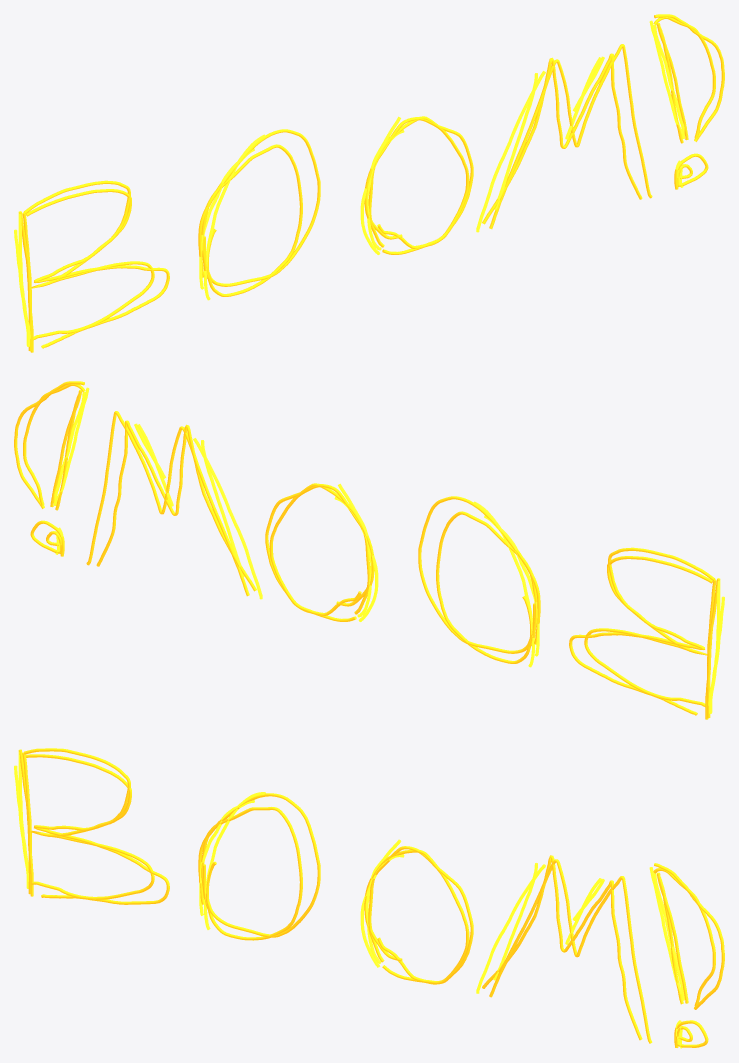
The model's file is boom-godot.glb.
3 renders of one model, top to bottom at view 1: azimuth 30°, elevation 25°; view 2: azimuth 150°, elevation 25°; view 3: azimuth 330°, elevation 25°, orthographic.
Visible parts, largest first — view 1: BoomText; view 2: BoomText; view 3: BoomText.
Boxes of the visible parts, x1,y1,x2,y2 form: BoomText: (14, 14, 724, 352); BoomText: (14, 381, 724, 719); BoomText: (14, 748, 724, 1048).
Bounding box in the file's own units: 9.77 × 2.43 × 0.04.
